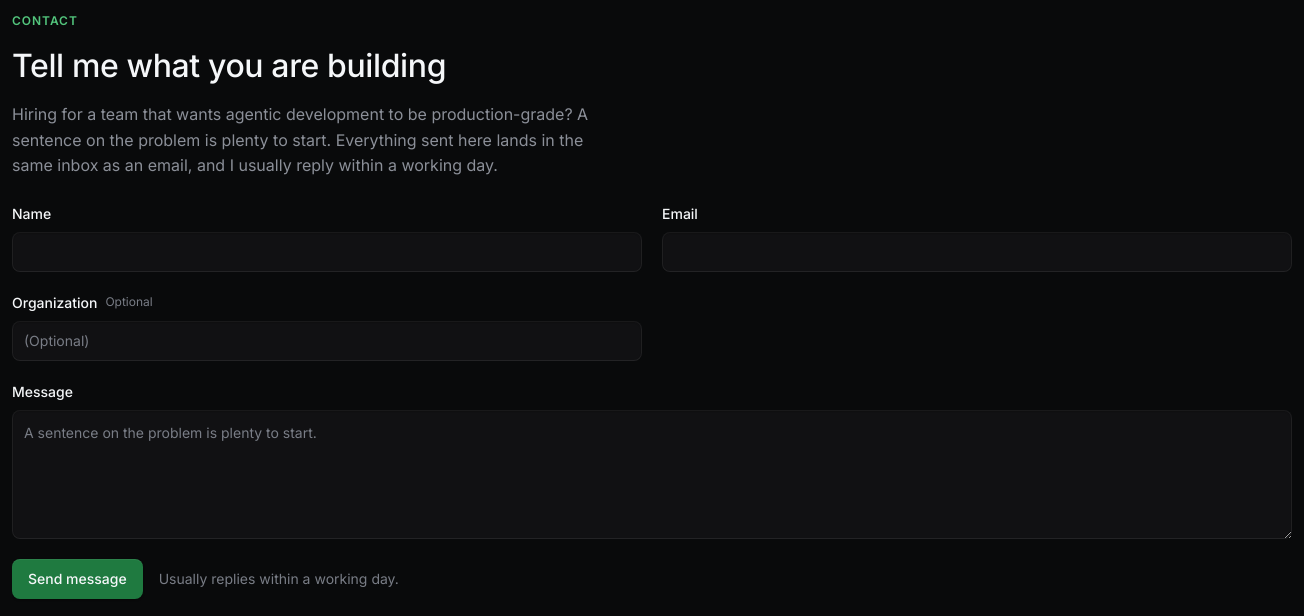
it: ContactForm › posts the trimmed submission and confirms with the email visible (AC-4)
Step 1. Type "  Test McLovin  " into the field labelled "Name" → (327, 252), box [12, 232, 642, 272]
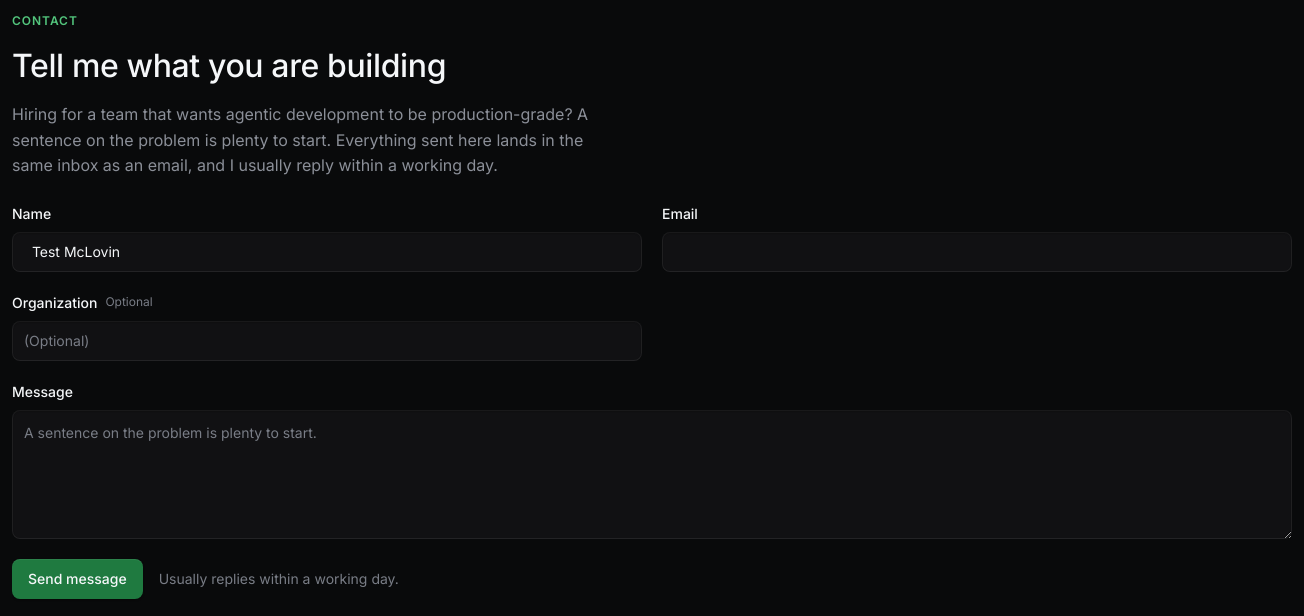
Step 2. Type " test@example.com " into the field labelled "Email" → (977, 252), box [662, 232, 1292, 272]
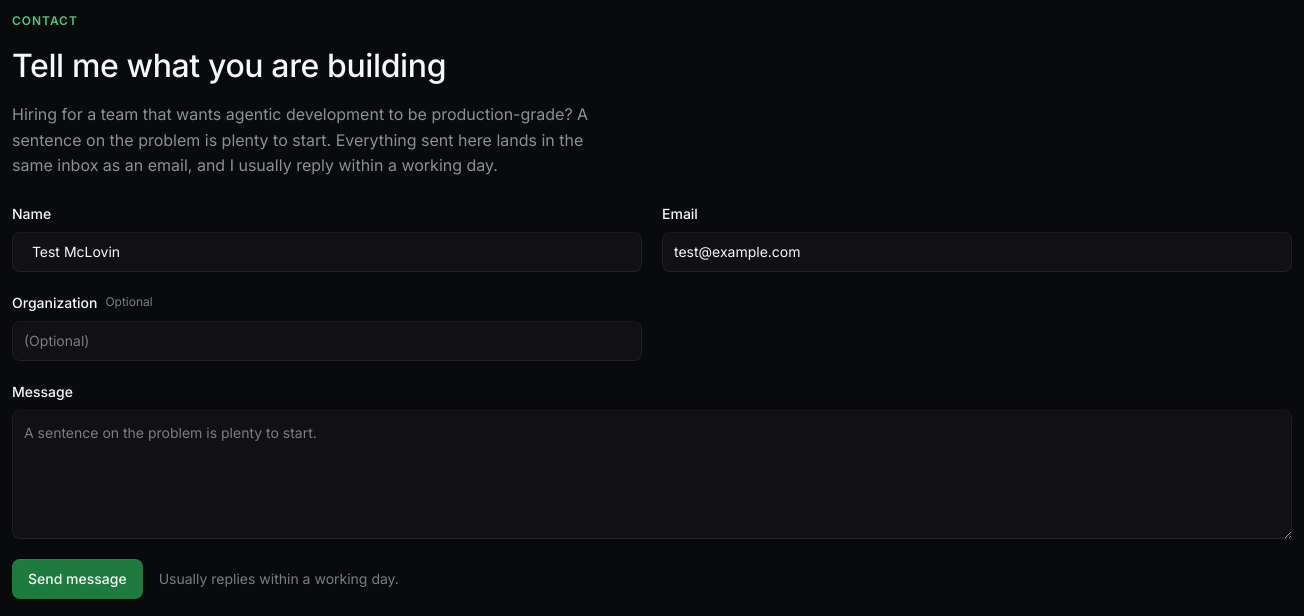
Step 3. Type "Acme Logistics" into the field labelled "Organization Optional" → (327, 341), box [12, 321, 642, 361]
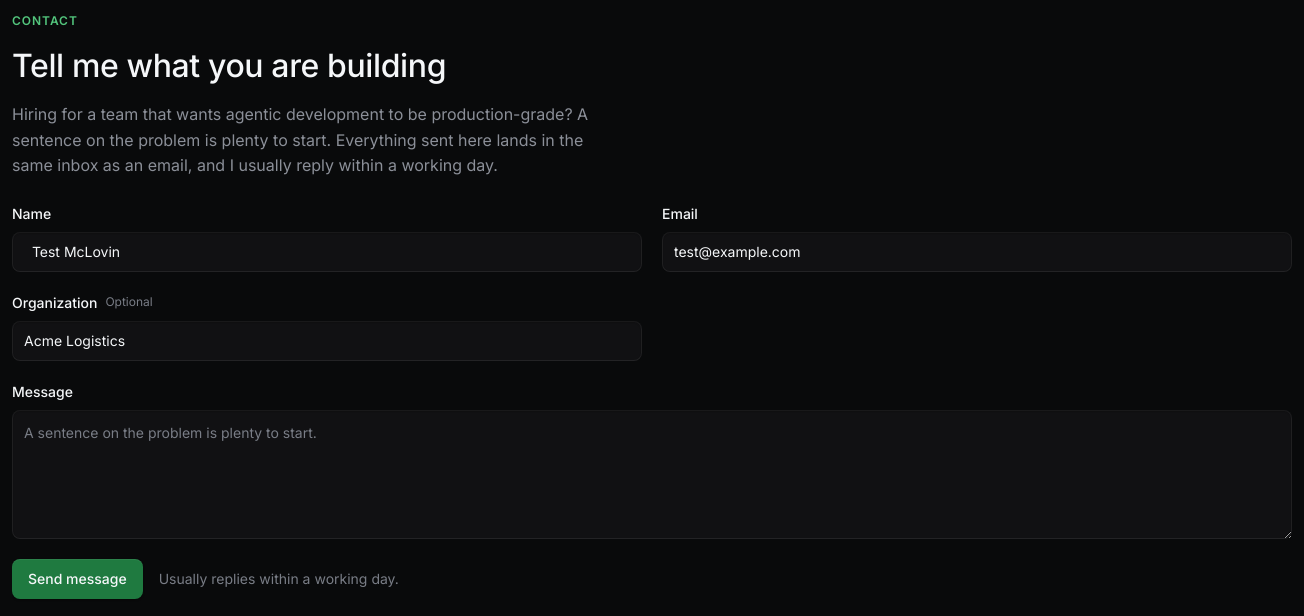
Step 4. Type "Hello, this is a test message." into the text box labelled "Message" → (652, 474), box [12, 410, 1292, 539]
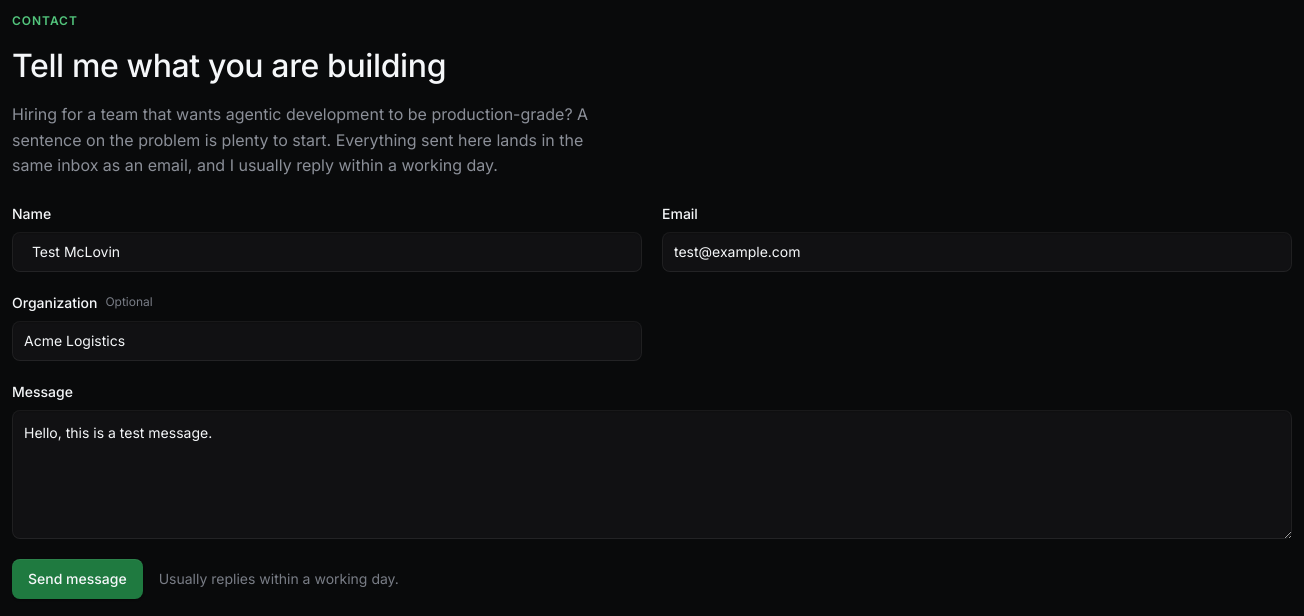
Step 5. Click the button "Send message" → (77, 579), box [12, 559, 143, 599]
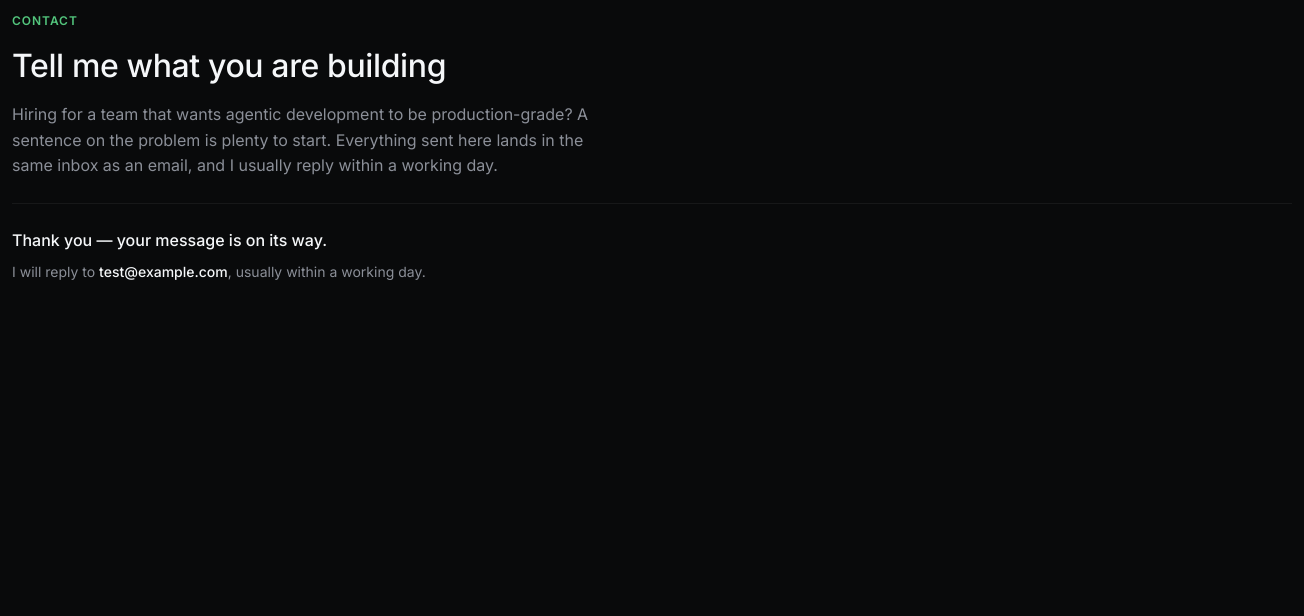
Expected: the element with test id "contact-form-confirmation" is shown, [12, 203, 1292, 282]
Expected: the text "test@example.com" is shown, [99, 263, 228, 280]
